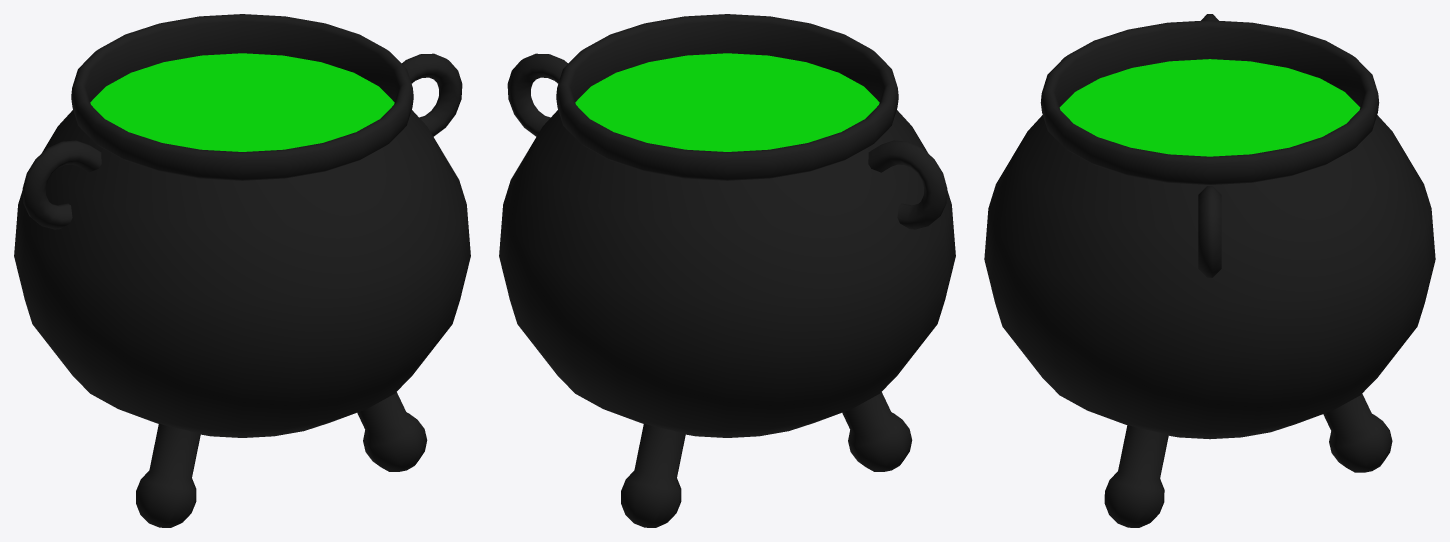
The model's file is cauldron_001.fbx.
3 renders of one model, left to right at view 1: azimuth 30°, elevation 25°; view 2: azimuth 150°, elevation 25°; view 3: azimuth 270°, elevation 25°, orthographic.
Visible parts, largest first — view 1: Cube.001; view 2: Cube.001; view 3: Cube.001.
Boxes of the visible parts, box(x1,y1,x2,y2) form: Cube.001: box(14, 14, 470, 527); Cube.001: box(499, 14, 955, 527); Cube.001: box(984, 14, 1435, 527).
Size of the model in its own units: 2.59 by 2.18 by 2.34.
